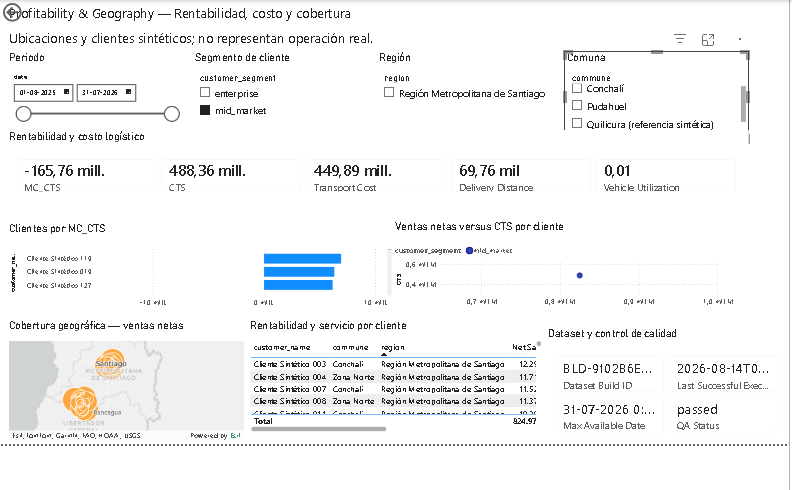

The page's visual inventory and layout, read from the dashboard file:
{"tool":"powerbi","page":{"name":"Profitability & Geography","canvas":[1280,720],"ordinal":3},"visuals":[{"type":"textbox","box":[10,0,652.9,40],"z":0},{"type":"textbox","box":[10,40,652.9,42.9],"z":1},{"type":"slicer","title":"Periodo","fields":{"Values":["dim_date.date"]},"box":[10,82.9,290,148.6],"z":2},{"type":"slicer","title":"Segmento de cliente","fields":{"Values":["dim_customer.customer_segment"]},"box":[311.4,82.9,280,150],"z":3},{"type":"slicer","title":"Región","fields":{"Values":["dim_location.region"]},"box":[610,82.9,305.7,150],"z":4},{"type":"slicer","title":"Comuna","fields":{"Values":["dim_location.commune"]},"box":[915,82.7,300,150],"z":5},{"type":"cardVisual","title":"Rentabilidad y costo logístico","fields":{"Data":["_Measures.MC_CTS","_Measures.CTS","_Measures.Transport Cost","_Measures.Delivery Distance","_Measures.Vehicle Utilization"]},"box":[9.7,210.9,1205.4,118.4],"z":6},{"type":"clusteredBarChart","title":"Clientes por MC_CTS","fields":{"Category":["dim_customer.customer_name"],"Y":["_Measures.MC_CTS"]},"box":[9.7,360.2,631.1,147.6],"z":7},{"type":"scatterChart","title":"Ventas netas versus CTS por cliente","fields":{"X":["_Measures.Net Sales"],"Y":["_Measures.CTS"],"Series":["dim_customer.customer_segment"]},"box":[635.9,356.9,558.1,149.3],"z":8},{"type":"actionButton","box":[0,0,100,40],"z":9},{"type":"esriVisual","title":"Cobertura geográfica — ventas netas","fields":{"Latitude":["dim_location.latitude"],"Longitude":["dim_location.longitude"],"Size":["_Measures.Net Sales"]},"box":[9.7,517.5,391.4,201.4],"z":10},{"type":"tableEx","title":"Rentabilidad y servicio por cliente","fields":{"Values":["dim_customer.customer_name","dim_location.commune","dim_location.region","_Measures.Net Sales","_Measures.CTS","_Measures.MC_CTS","_Measures.Delivery Distance","_Measures.Transport Cost","_Measures.OTIF"]},"box":[400.7,517.5,483.4,188.2],"z":11},{"type":"cardVisual","title":"Dataset y control de calidad","fields":{"Data":["_Measures.Dataset Build ID","_Measures.Last Successful Execution","_Measures.Max Available Date","_Measures.QA Status"]},"box":[884.2,530.5,395.8,188.2],"z":12}]}

Visuals, with their boxes on the page's 1280x720 design canvas (x1, y1, x2, y2). These are canvas units, not pixel positions in the 792x490 screenshot, which may show the page scaled, cropped or inside an application window:
textbox: bbox=(10, 0, 663, 40)
textbox: bbox=(10, 40, 663, 83)
"Periodo" slicer: bbox=(10, 83, 300, 232)
"Segmento de cliente" slicer: bbox=(311, 83, 591, 233)
"Región" slicer: bbox=(610, 83, 916, 233)
"Comuna" slicer: bbox=(915, 83, 1215, 233)
"Rentabilidad y costo logístico" cardVisual: bbox=(10, 211, 1215, 329)
"Clientes por MC_CTS" clusteredBarChart: bbox=(10, 360, 641, 508)
"Ventas netas versus CTS por cliente" scatterChart: bbox=(636, 357, 1194, 506)
actionButton: bbox=(0, 0, 100, 40)
"Cobertura geográfica — ventas netas" esriVisual: bbox=(10, 518, 401, 719)
"Rentabilidad y servicio por cliente" tableEx: bbox=(401, 518, 884, 706)
"Dataset y control de calidad" cardVisual: bbox=(884, 530, 1280, 719)
